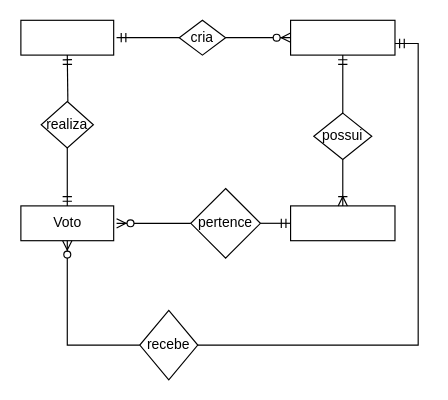
This 448x400 diagram has some shape labels left out. The box of each missing label's shape, as (x1, y1, x2, y2) in pixels:
Candidato: (289, 205, 395, 241)
Enquete: (289, 19, 395, 55)
Usuario: (20, 19, 114, 55)
